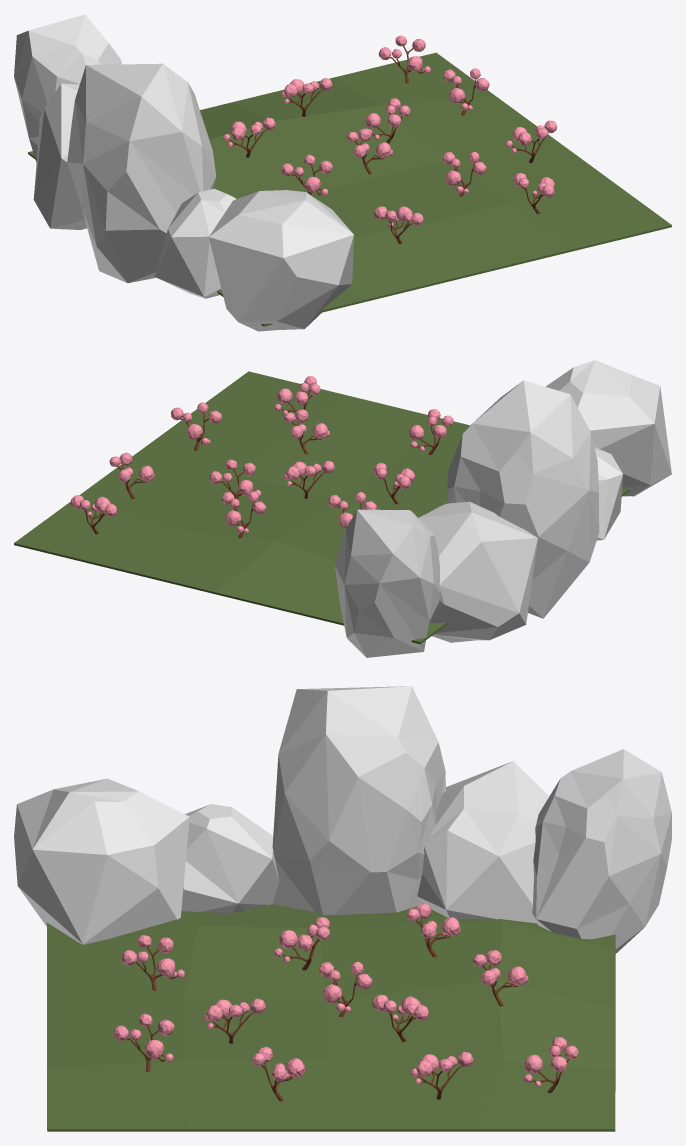
File: Scenery Test.fbx
The picture shows the model from 3 angles, top to bottom: view 1: azimuth 30°, elevation 25°; view 2: azimuth 150°, elevation 25°; view 3: azimuth 270°, elevation 25°; orthographic projection. The views are drawn at different scales.
Parts seen in each view (by area): view 1: Plane, Icosphere.002, Icosphere, Icosphere.004, Icosphere.001, Icosphere.003; view 2: Plane, Icosphere.002, Icosphere.004, Icosphere.003, Icosphere, Icosphere.001; view 3: Plane, Icosphere.002, Icosphere, Icosphere.004, Icosphere.003, Icosphere.001.
Part boxes in pixels (x1=…): Plane: x1=28, y1=52, x2=671, y2=326; Icosphere.002: x1=67, y1=63, x2=216, y2=283; Icosphere: x1=209, y1=190, x2=353, y2=331; Icosphere.004: x1=14, y1=14, x2=122, y2=162; Icosphere.001: x1=154, y1=188, x2=235, y2=298; Icosphere.003: x1=33, y1=83, x2=86, y2=229; Plane: x1=14, y1=371, x2=629, y2=644; Icosphere.002: x1=447, y1=380, x2=599, y2=618; Icosphere.004: x1=334, y1=509, x2=440, y2=657; Icosphere.003: x1=418, y1=501, x2=537, y2=642; Icosphere: x1=545, y1=360, x2=671, y2=496; Icosphere.001: x1=594, y1=447, x2=622, y2=540; Plane: x1=47, y1=904, x2=615, y2=1131; Icosphere.002: x1=272, y1=686, x2=445, y2=915; Icosphere: x1=14, y1=778, x2=189, y2=944; Icosphere.004: x1=532, y1=749, x2=671, y2=953; Icosphere.003: x1=417, y1=761, x2=549, y2=923; Icosphere.001: x1=181, y1=804, x2=279, y2=913.
Bounding box in the file's own units: 4896 × 2143 × 4971.
